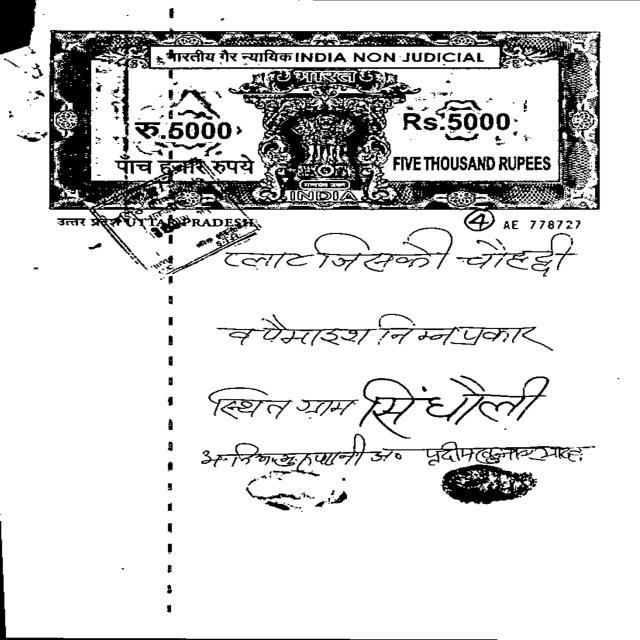afidivitstamp: (55, 31, 598, 212)
fingerprint: (236, 471, 346, 514), (435, 464, 539, 508)
govtstamp: (90, 159, 260, 278)
